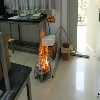fire: (38, 29, 50, 71)
